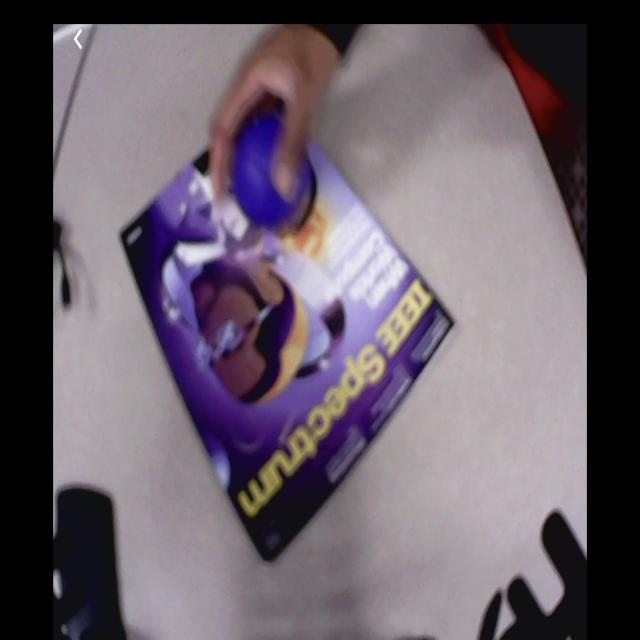ball: (236, 122, 304, 222)
